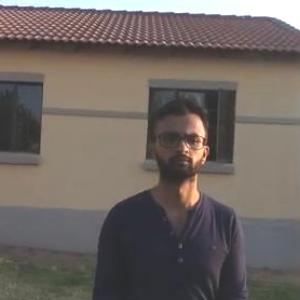follow: (85, 87, 254, 299)
